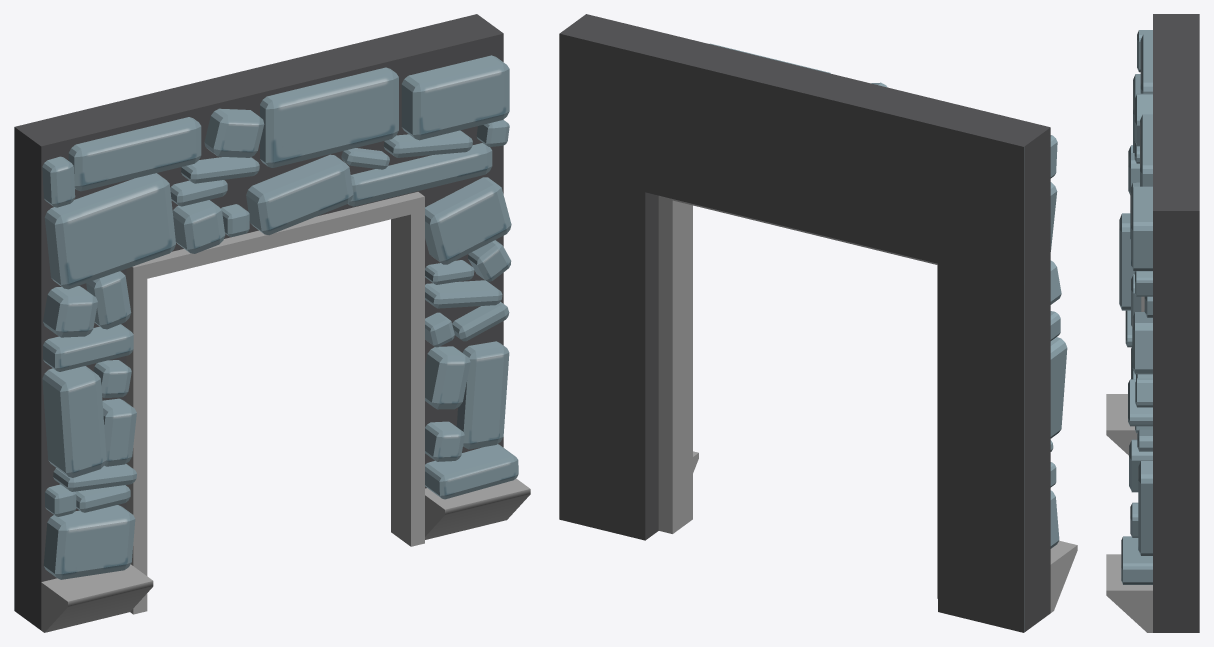
File: Doorway Textured.fbx
3 views of the same model, side by side, from view 1: azimuth 30°, elevation 25°; view 2: azimuth 150°, elevation 25°; view 3: azimuth 270°, elevation 25° (orthographic). The views are drawn at different scales.
Parts seen in each view (by area): view 1: Doorway; view 2: Doorway; view 3: Doorway.
Part boxes in pixels (x1,y1,x2,y2): Doorway: (14, 14, 530, 632); Doorway: (559, 14, 1077, 632); Doorway: (1106, 14, 1199, 632).
Size of the model in its own units: 10 by 10 by 2.
